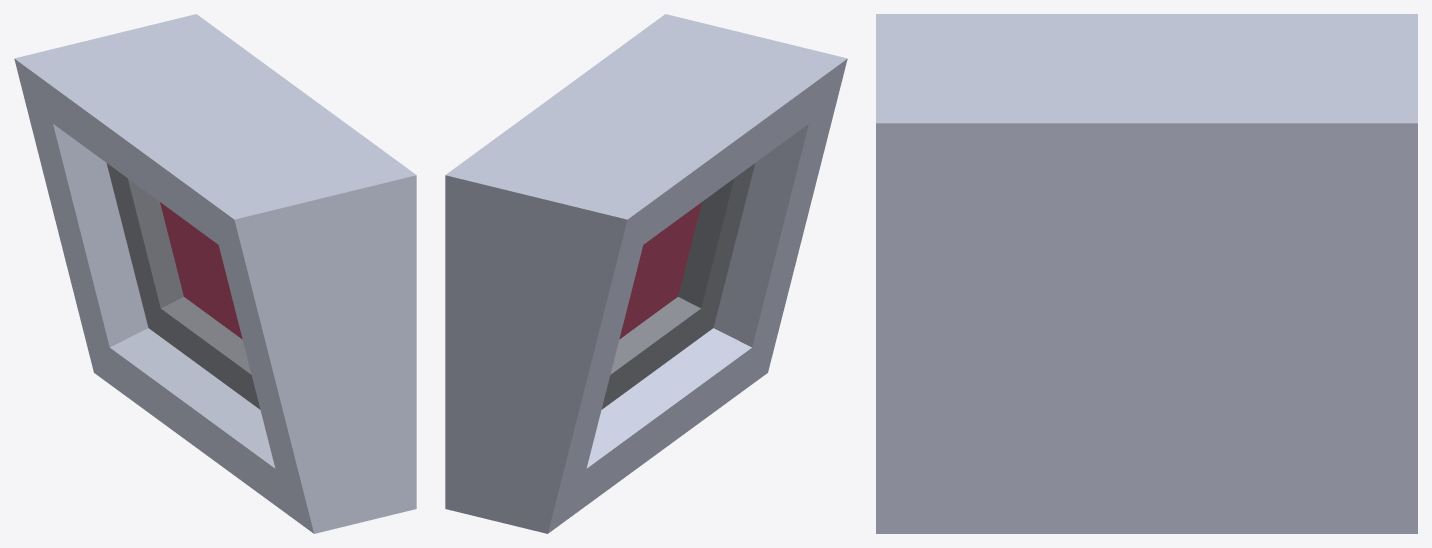
3 views of the same model, side by side, from view 1: azimuth 30°, elevation 25°; view 2: azimuth 150°, elevation 25°; view 3: azimuth 270°, elevation 25° (orthographic). The views are drawn at different scales.
Visible parts, largest first — view 1: object_060; view 2: object_060; view 3: object_060.
Boxes of the visible parts, x1,y1,x2,y2 form: object_060: [14, 14, 416, 533]; object_060: [445, 14, 847, 533]; object_060: [876, 14, 1417, 533].
Bounding box in the file's own units: 2.29 × 4 × 4.78.
